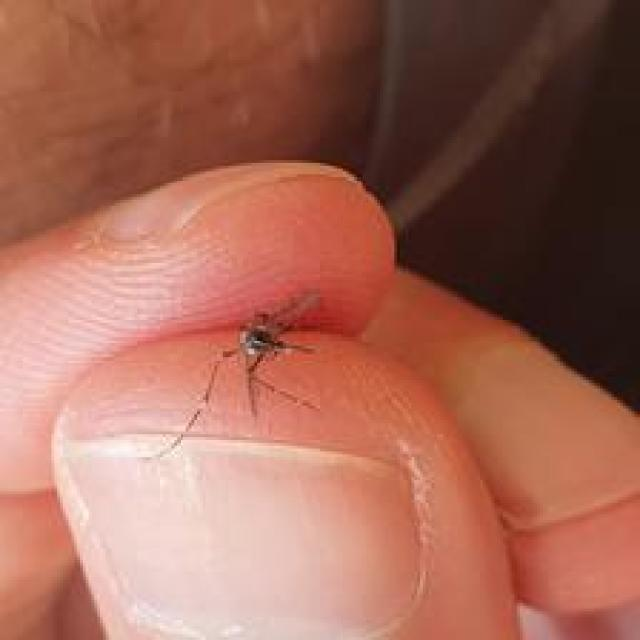Aedes albopictus: (146, 290, 326, 461)
